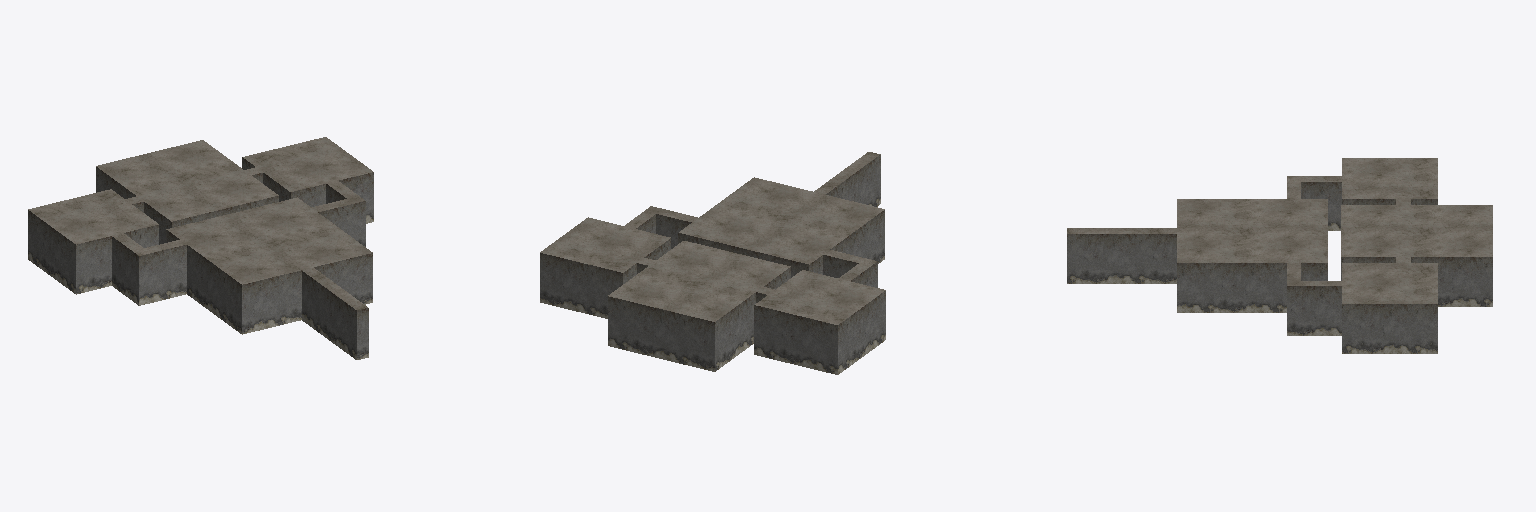
The picture shows the model from 3 angles: view 1: azimuth 30°, elevation 25°; view 2: azimuth 150°, elevation 25°; view 3: azimuth 270°, elevation 25°; orthographic projection.
Parts seen in each view (by area): view 1: Map_Final_Mesh.002; view 2: Map_Final_Mesh.002; view 3: Map_Final_Mesh.002.
Boxes of the visible parts, x1,y1,x2,y2 form: Map_Final_Mesh.002: [28, 137, 373, 359]; Map_Final_Mesh.002: [540, 152, 885, 374]; Map_Final_Mesh.002: [1067, 158, 1492, 353].
Size of the model in its own units: 25 by 4 by 31.
2 materials, 2 textured.